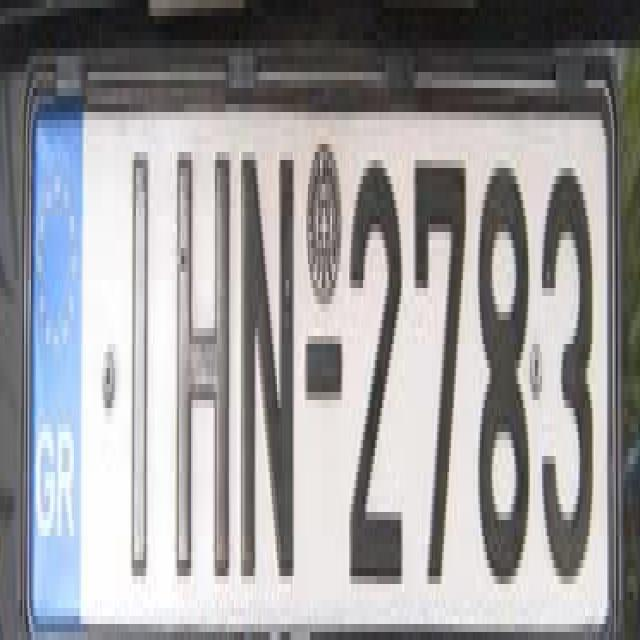EU: (26, 55, 616, 613)
Grece: (28, 73, 85, 632)
